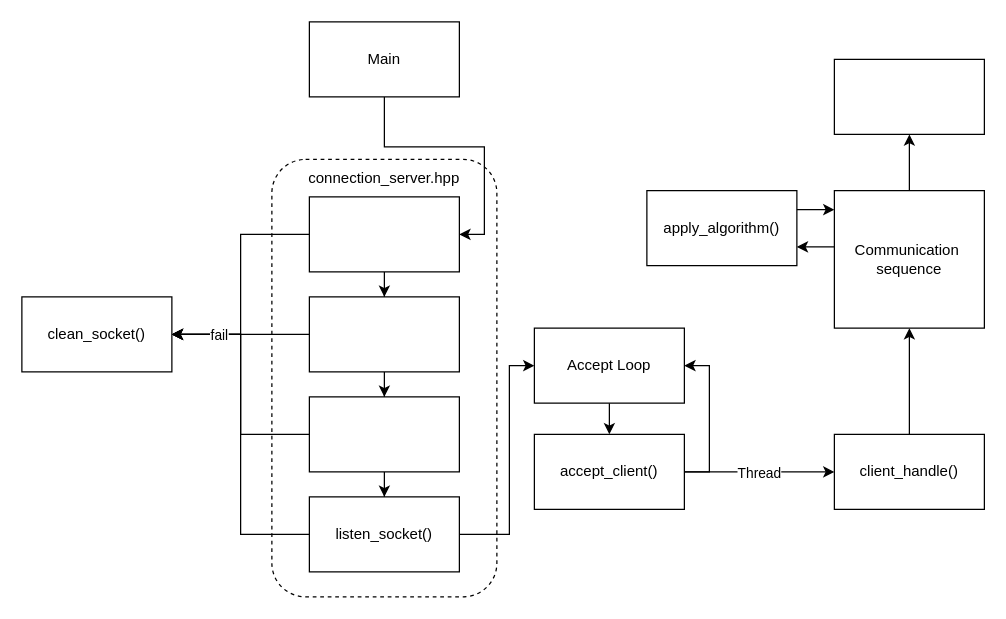
Image size: 1006x619. Some labels were removed from this diagram. Here are the shapes that lost their labels. From the top down, the box of each, then its label:
(833, 58, 984, 134): Thread detached
(308, 196, 459, 272): init_socket()
(308, 296, 459, 372): set_addr()
(308, 396, 459, 472): bind_socket()
